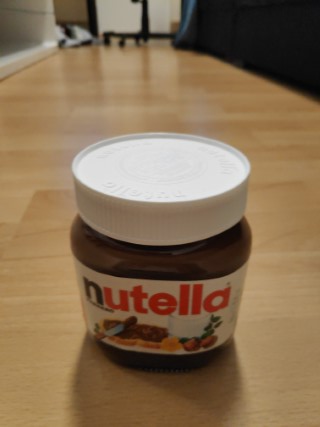nutella: (67, 130, 255, 375)
